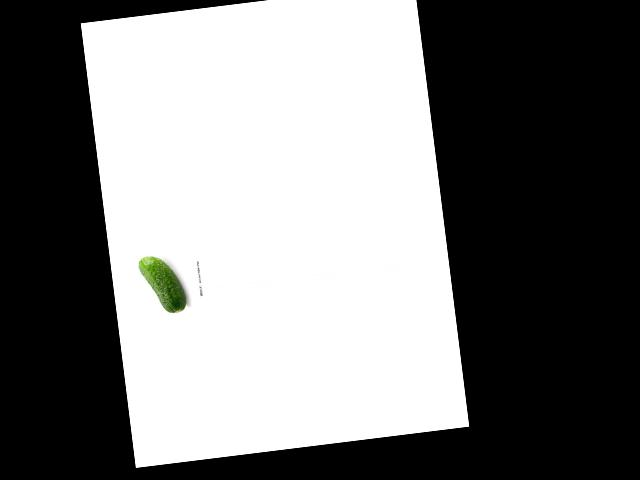cucumber: (137, 252, 188, 316)
